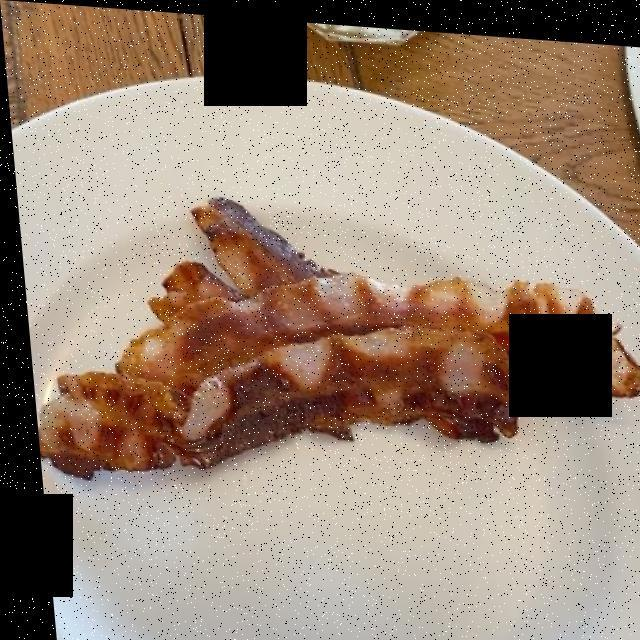bacon: (48, 205, 637, 477)
